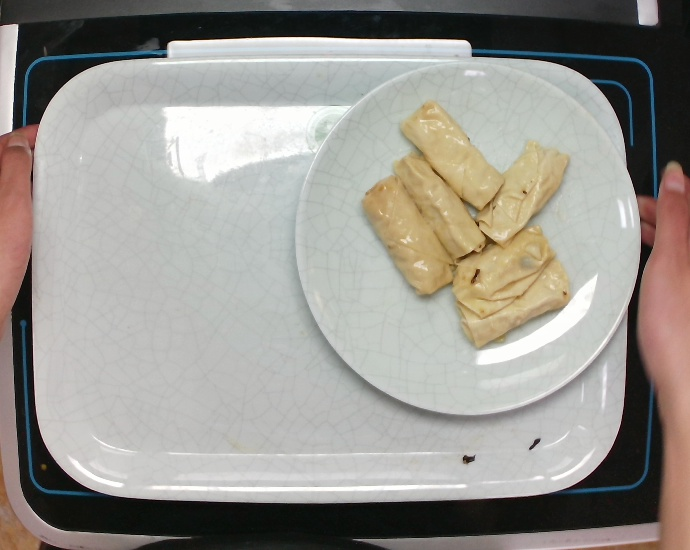JYsf-Da_Yuan_Pan: (275, 57, 648, 418)
